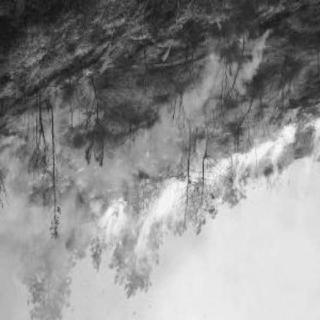Fire: (89, 163, 219, 246)
